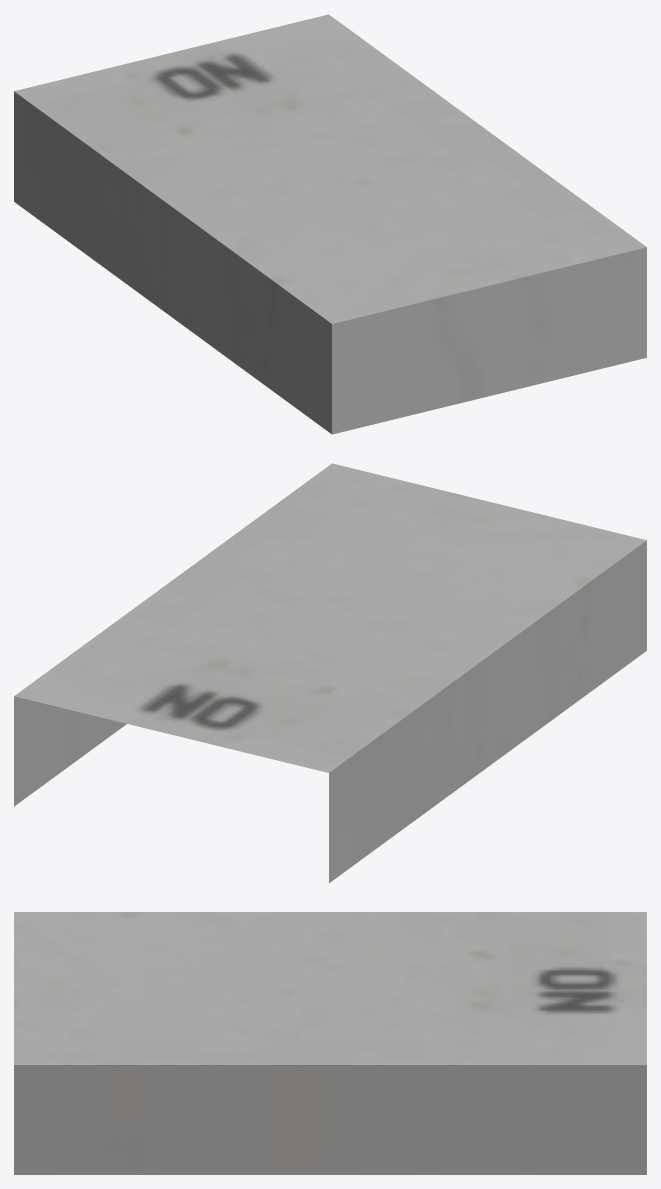
Rendered from FBX_DeskLamp_Button_On.fbx.
3 renders of one model, top to bottom at view 1: azimuth 30°, elevation 25°; view 2: azimuth 150°, elevation 25°; view 3: azimuth 270°, elevation 25°, orthographic.
Visible parts, largest first — view 1: SM_DeskLamp_Button_On; view 2: SM_DeskLamp_Button_On; view 3: SM_DeskLamp_Button_On.
Boxes of the visible parts, box(x1,y1,x2,y2) form: SM_DeskLamp_Button_On: box(14, 14, 646, 434); SM_DeskLamp_Button_On: box(14, 463, 646, 882); SM_DeskLamp_Button_On: box(14, 912, 646, 1174).
Size of the model in its own units: 0.02 by 0.00671 by 0.035.
